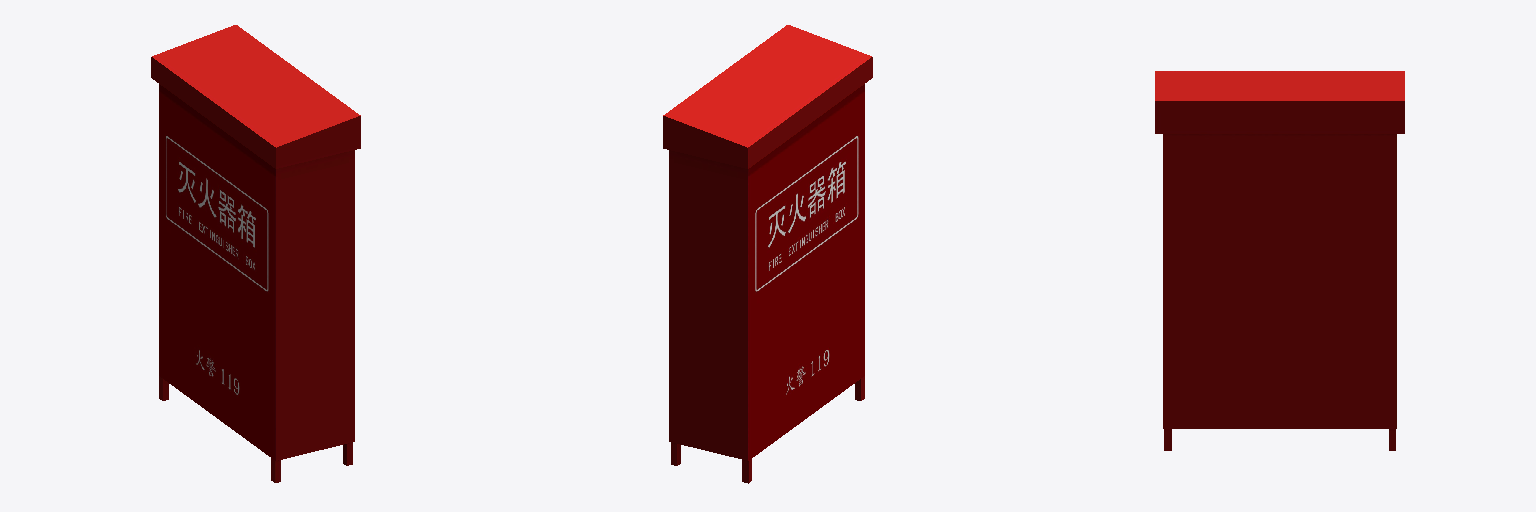
The picture shows the model from 3 angles: view 1: azimuth 30°, elevation 25°; view 2: azimuth 150°, elevation 25°; view 3: azimuth 270°, elevation 25°; orthographic projection.
Parts seen in each view (by area): view 1: Box11; view 2: Box11; view 3: Box11.
Part boxes in pixels (bbox=[...]): Box11: bbox=[151, 25, 360, 482]; Box11: bbox=[663, 25, 872, 483]; Box11: bbox=[1155, 71, 1404, 450].
Size of the model in its own units: 26.63 by 105 by 67.77.
Materials: 1 (1 with a texture image).